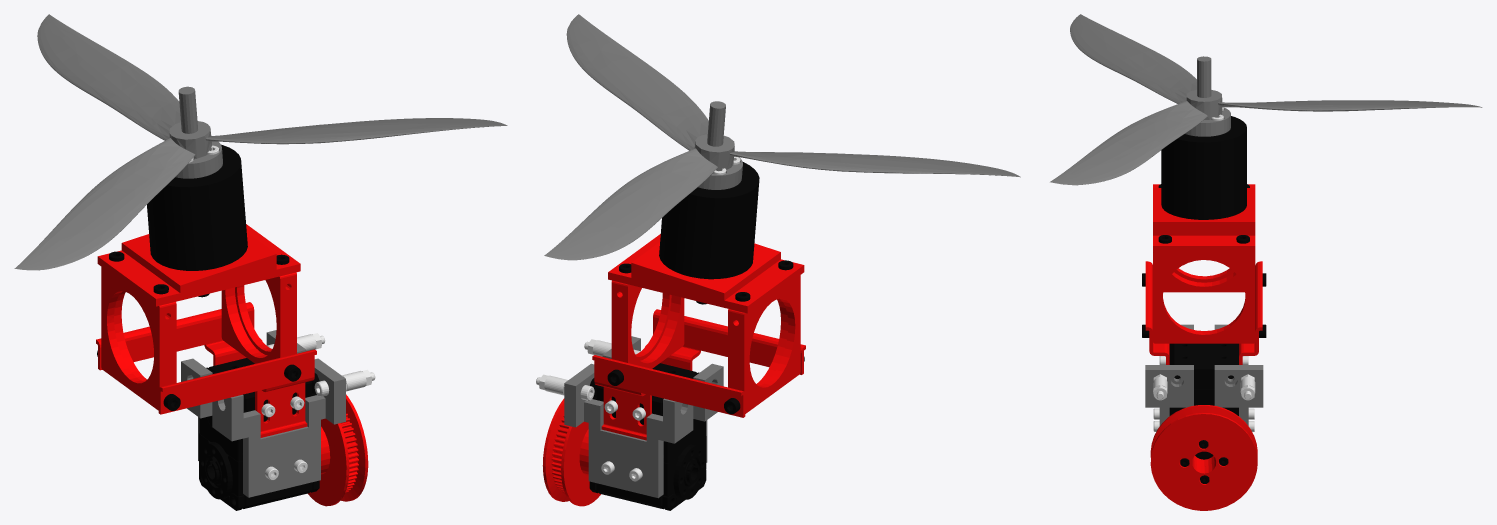
Rendered from link3_gimbal.dae.
The picture shows the model from 3 angles, left to right: view 1: azimuth 30°, elevation 25°; view 2: azimuth 150°, elevation 25°; view 3: azimuth 270°, elevation 25°; orthographic projection. The views are drawn at different scales.
Parts seen in each view (by area): view 1: link_3_gimbal - gimbal_rotation_base-1 gimbal_servo_with_ho. (×9), link_3_gimbal - tmotor_at2814_with_9inch_prop-1 9inch_prop-1, link_3_gimbal - tmotor_at2814_with_9inch_prop-1 t_motor_at2. (×2), link_3_gimbal - gimbal_rotation_base-1 gimbal_roll_holder_PL (×2), link_3_gimbal - motor_mount_link3_v2-1; view 2: link_3_gimbal - gimbal_rotation_base-1 gimbal_servo_with_ho. (×9), link_3_gimbal - tmotor_at2814_with_9inch_prop-1 9inch_prop-1, link_3_gimbal - tmotor_at2814_with_9inch_prop-1 t_motor_at2. (×2), link_3_gimbal - gimbal_rotation_base-1 gimbal_roll_holder_PL (×2), link_3_gimbal - motor_mount_link3_v2-1; view 3: link_3_gimbal - gimbal_rotation_base-1 gimbal_servo_with_ho. (×7), link_3_gimbal - tmotor_at2814_with_9inch_prop-1 9inch_prop-1, link_3_gimbal - tmotor_at2814_with_9inch_prop-1 t_motor_at2. (×2), link_3_gimbal - gimbal_rotation_base-1 gimbal_roll_holder_PL (×2), link_3_gimbal - motor_mount_link3_v2-1.
Boxes of the visible parts, x1,y1,x2,y2 form: link_3_gimbal - gimbal_rotation_base-1 gimbal_servo_with_ho. (×9): (96, 302, 368, 508); link_3_gimbal - tmotor_at2814_with_9inch_prop-1 9inch_prop-1: (14, 14, 507, 270); link_3_gimbal - tmotor_at2814_with_9inch_prop-1 t_motor_at2. (×2): (147, 86, 247, 297); link_3_gimbal - gimbal_rotation_base-1 gimbal_roll_holder_PL (×2): (101, 267, 296, 410); link_3_gimbal - motor_mount_link3_v2-1: (97, 224, 300, 306); link_3_gimbal - gimbal_rotation_base-1 gimbal_servo_with_ho. (×9): (542, 309, 805, 509); link_3_gimbal - tmotor_at2814_with_9inch_prop-1 9inch_prop-1: (544, 14, 1020, 260); link_3_gimbal - tmotor_at2814_with_9inch_prop-1 t_motor_at2. (×2): (659, 101, 759, 304); link_3_gimbal - gimbal_rotation_base-1 gimbal_roll_holder_PL (×2): (611, 275, 800, 413); link_3_gimbal - motor_mount_link3_v2-1: (608, 234, 804, 313); link_3_gimbal - gimbal_rotation_base-1 gimbal_servo_with_ho. (×7): (1145, 261, 1263, 510); link_3_gimbal - tmotor_at2814_with_9inch_prop-1 9inch_prop-1: (1050, 14, 1482, 185); link_3_gimbal - tmotor_at2814_with_9inch_prop-1 t_motor_at2. (×2): (1161, 56, 1246, 219); link_3_gimbal - gimbal_rotation_base-1 gimbal_roll_holder_PL (×2): (1153, 252, 1255, 343); link_3_gimbal - motor_mount_link3_v2-1: (1153, 184, 1255, 252).
Size of the model in its own units: 0.1976 by 0.1779 by 0.1759.
